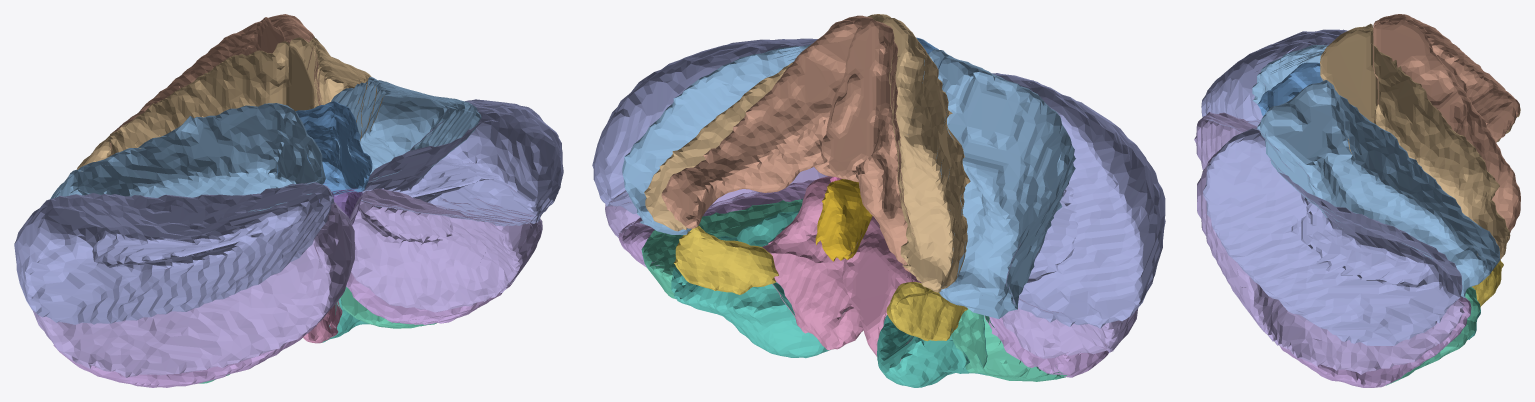
File: suit_cerebellum.glb
3 views of the same model, side by side, from view 1: azimuth 30°, elevation 25°; view 2: azimuth 150°, elevation 25°; view 3: azimuth 270°, elevation 25° (orthographic). The views are drawn at different scales.
Parts seen in each view (by area): view 1: Cerebellar Crus I L (ansiform lobule), Cerebellar Crus II L (ansiform lobule), Cerebellar Crus II R (ansiform lobule), Cerebellar lobule VI L (superior posterior), Cerebellar Crus I R (ansiform lobule), Cerebellar lobule V L (anterior lobe), Cerebellar lobule VI R (superior posterior), Cerebellar vermis VI (declive), Cerebellar lobules I–IV L (anterior lobe), Cerebellar lobule V R (anterior lobe), Cerebellar lobule VIIb L (gracile lobule), Cerebellar lobule VIIb R (gracile lobule) (+5 smaller); view 2: Cerebellar lobule VI L (superior posterior), Cerebellar Crus I L (ansiform lobule), Cerebellar lobules I–IV R (anterior lobe), Cerebellar lobule V L (anterior lobe), Cerebellar lobules I–IV L (anterior lobe), Cerebellar lobule VI R (superior posterior), Cerebellar lobule IX R (tonsil), Cerebellar Crus I R (ansiform lobule), Cerebellar lobule VIIIb R (biventral/tonsil), Cerebellar lobule X R (flocculus), Cerebellar lobule IX L (tonsil), Cerebellar lobule VIIIb L (biventral/tonsil) (+9 smaller); view 3: Cerebellar Crus I R (ansiform lobule), Cerebellar lobule VI R (superior posterior), Cerebellar lobule V R (anterior lobe), Cerebellar Crus II R (ansiform lobule), Cerebellar lobules I–IV R (anterior lobe), Cerebellar Crus I L (ansiform lobule), Cerebellar lobules I–IV L (anterior lobe), Cerebellar lobule VIIb R (gracile lobule), Cerebellar Crus II L (ansiform lobule), Cerebellar lobule VI L (superior posterior), Cerebellar vermis VI (declive), Cerebellar lobule VIIIa R (biventral) (+1 smaller).
Part boxes in pixels (x1,y1,x2,y2): Cerebellar Crus I L (ansiform lobule): (14,181,334,324); Cerebellar Crus II L (ansiform lobule): (32,202,355,377); Cerebellar Crus II R (ansiform lobule): (346,162,542,312); Cerebellar lobule VI L (superior posterior): (50,103,325,211); Cerebellar Crus I R (ansiform lobule): (361,99,563,226); Cerebellar lobule V L (anterior lobe): (77,41,314,169); Cerebellar lobule VI R (superior posterior): (331,77,481,185); Cerebellar vermis VI (declive): (277,101,372,195); Cerebellar lobules I–IV L (anterior lobe): (110,17,285,154); Cerebellar lobule V R (anterior lobe): (289,36,384,140); Cerebellar lobule VIIb L (gracile lobule): (53,244,319,387); Cerebellar lobule VIIb R (gracile lobule): (346,223,512,324); Cerebellar lobule VI L (superior posterior): (922,49,1075,318); Cerebellar Crus I L (ansiform lobule): (992,73,1165,328); Cerebellar lobules I–IV R (anterior lobe): (661,15,872,228); Cerebellar lobule V L (anterior lobe): (882,17,970,292); Cerebellar lobules I–IV L (anterior lobe): (821,19,915,276); Cerebellar lobule VI R (superior posterior): (622,44,810,234); Cerebellar lobule IX R (tonsil): (762,176,890,350); Cerebellar Crus I R (ansiform lobule): (592,38,817,213); Cerebellar lobule VIIIb R (biventral/tonsil): (671,209,845,358); Cerebellar lobule X R (flocculus): (674,226,778,294); Cerebellar lobule IX L (tonsil): (842,216,921,362); Cerebellar lobule VIIIb L (biventral/tonsil): (877,315,987,387); Cerebellar Crus I R (ansiform lobule): (1203,128,1462,345); Cerebellar lobule VI R (superior posterior): (1257,80,1500,297); Cerebellar lobule V R (anterior lobe): (1320,29,1510,260); Cerebellar Crus II R (ansiform lobule): (1197,150,1464,374); Cerebellar lobules I–IV R (anterior lobe): (1373,20,1520,232); Cerebellar Crus I L (ansiform lobule): (1201,29,1347,132); Cerebellar lobules I–IV L (anterior lobe): (1373,14,1520,141); Cerebellar lobule VIIb R (gracile lobule): (1279,296,1471,387); Cerebellar Crus II L (ansiform lobule): (1194,111,1260,170); Cerebellar lobule VI L (superior posterior): (1252,44,1328,104); Cerebellar vermis VI (declive): (1257,62,1323,116); Cerebellar lobule VIIIa R (biventral): (1386,287,1480,385).
Bounding box in the file's own units: 5.64 × 3.46 × 3.3.
